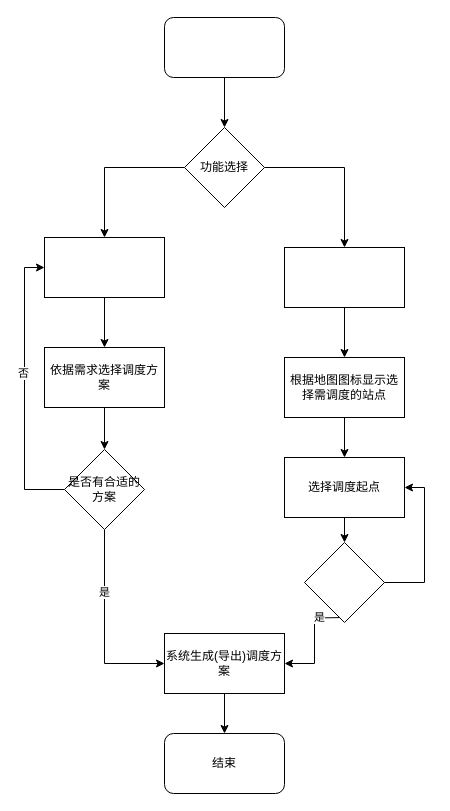
This 450x811 diagram has some shape labels left out. The shapes that lost their labels are listed below. From the top down, each one's box as (x1, y1, x2, y2) in pixels, then its label:
(164, 16, 284, 78): 开始
(44, 236, 164, 298): 大模型生成调度方案
(284, 246, 404, 308): 自选调度方案
(304, 542, 384, 622): 是否有多余车辆可以调度
